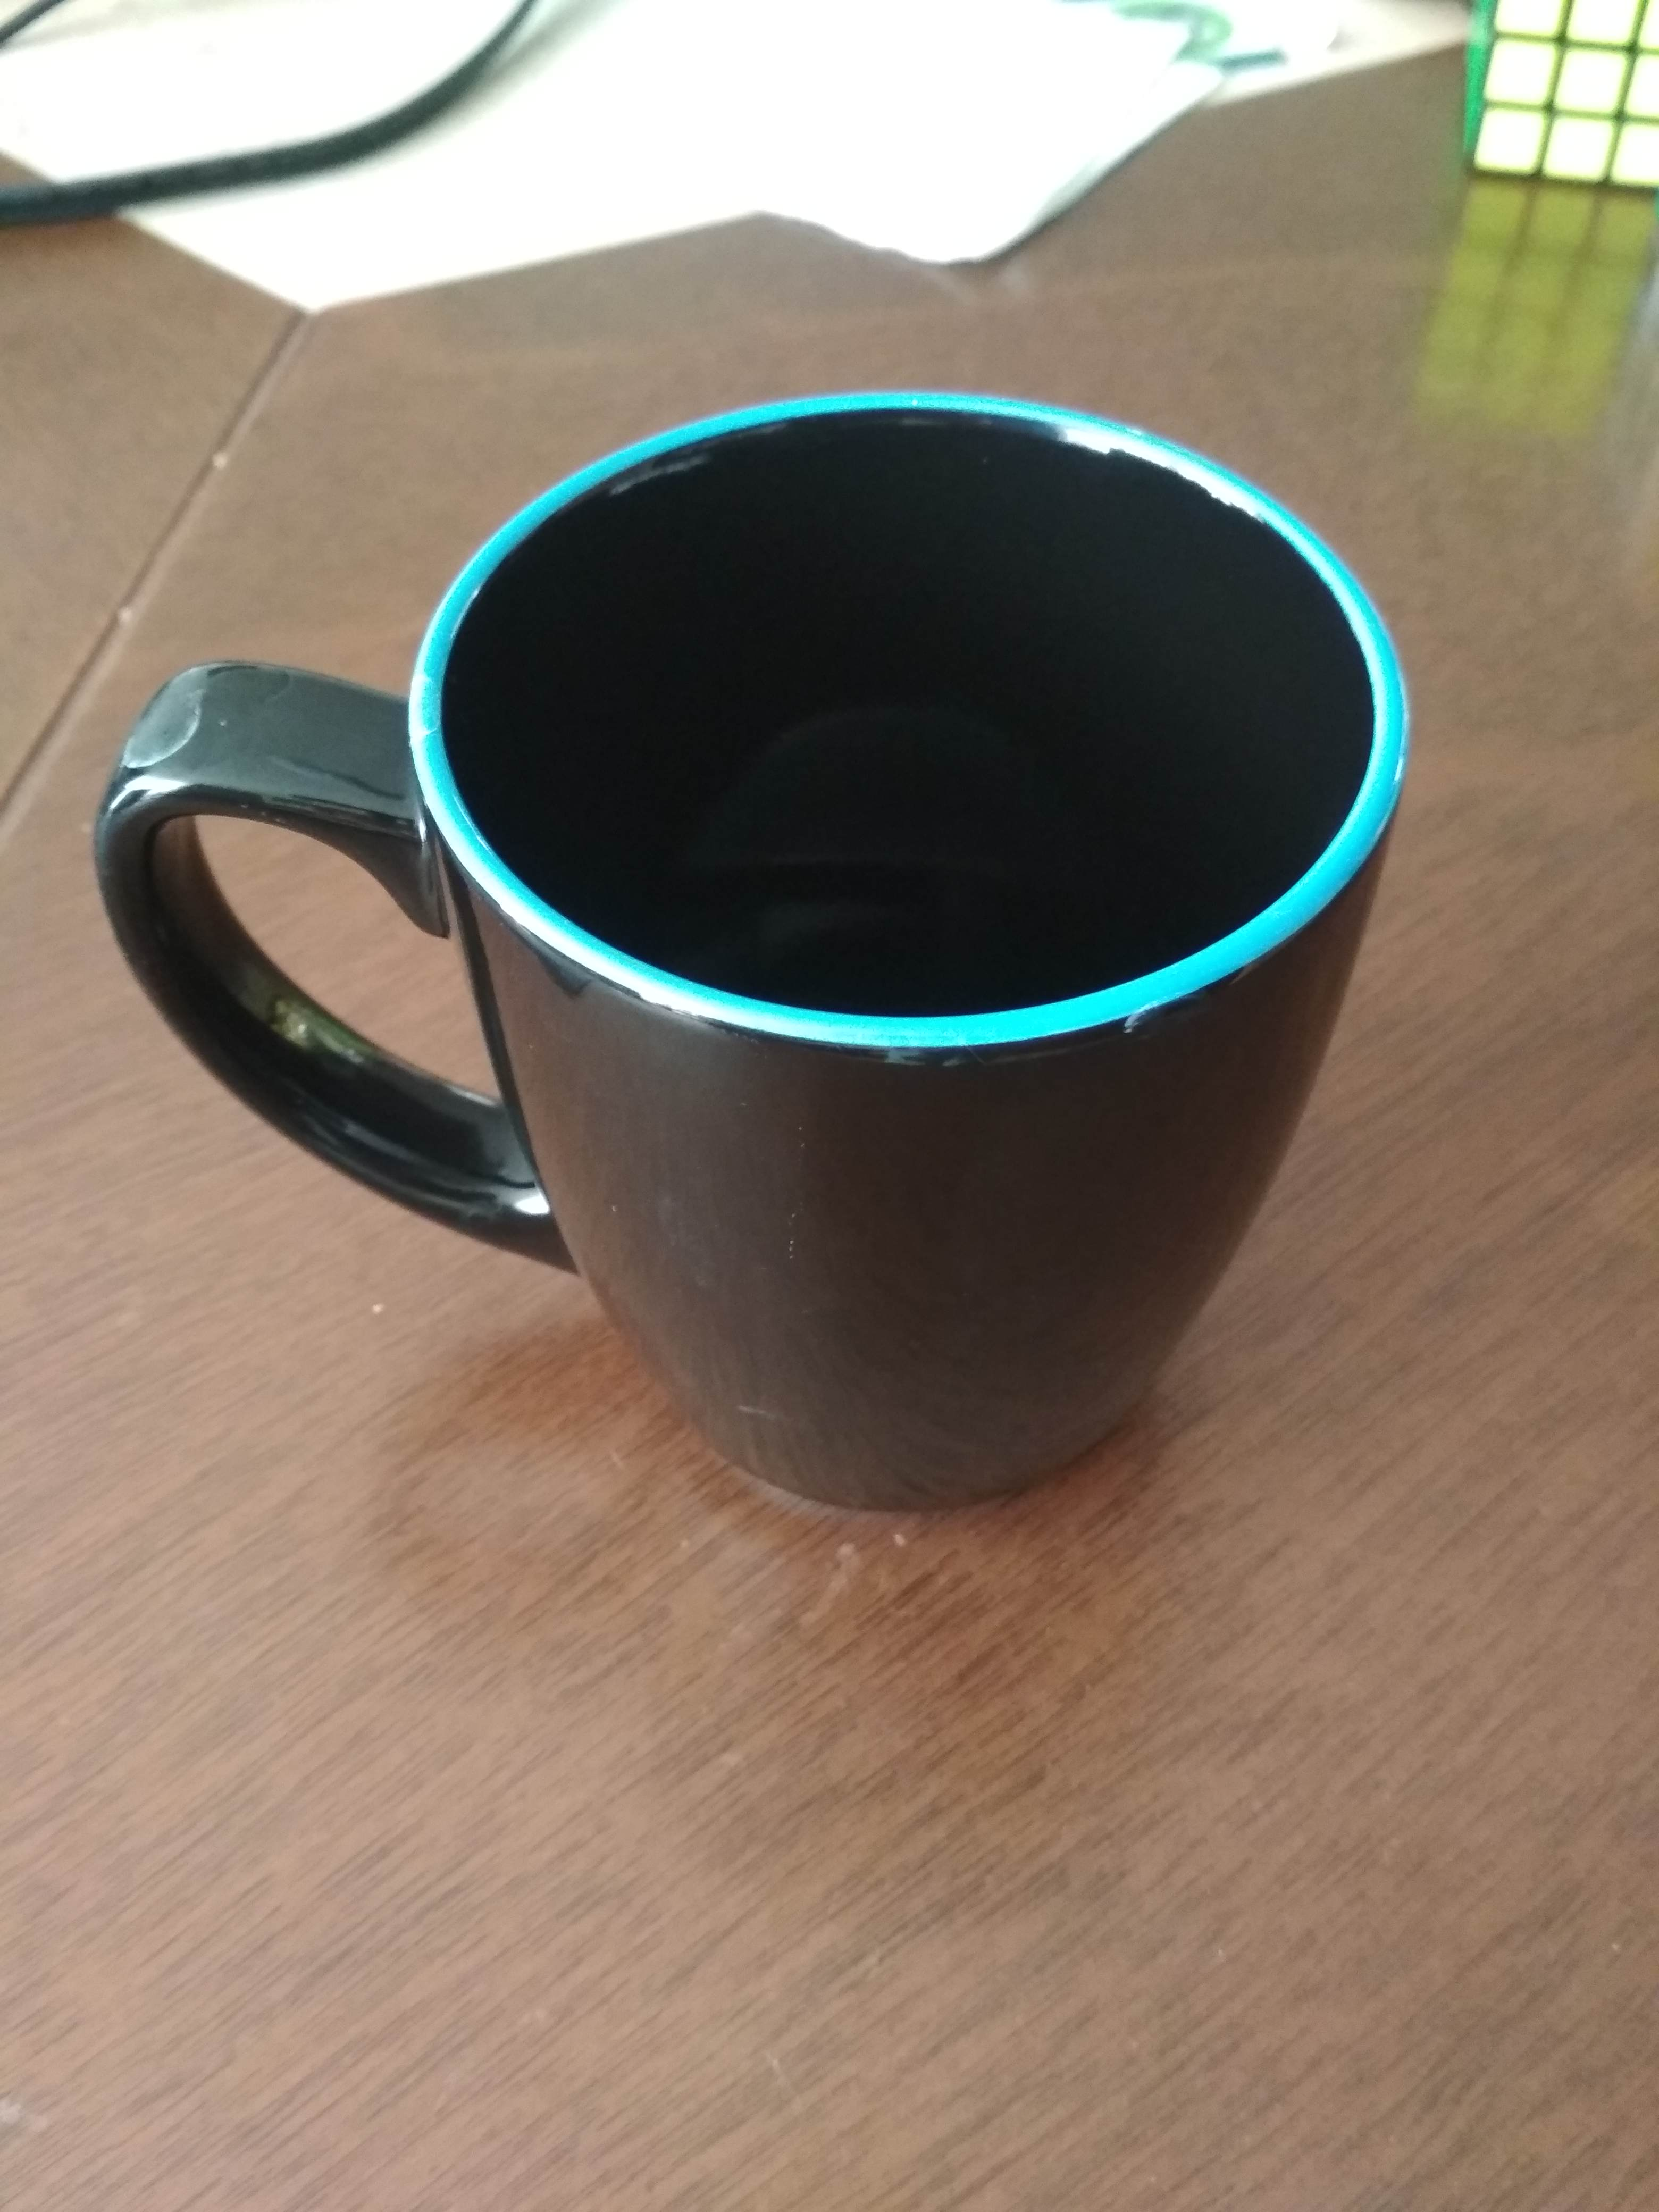cup: (54, 359, 1438, 1554)
rubik_cube: (1438, 0, 1659, 206)
